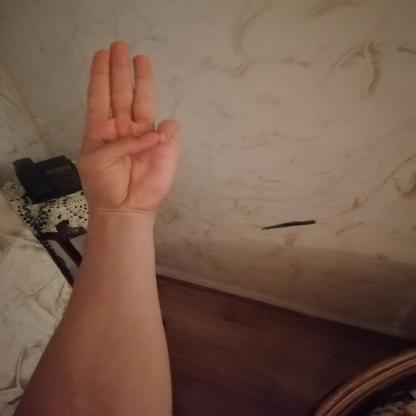THA: (63, 32, 193, 224)
